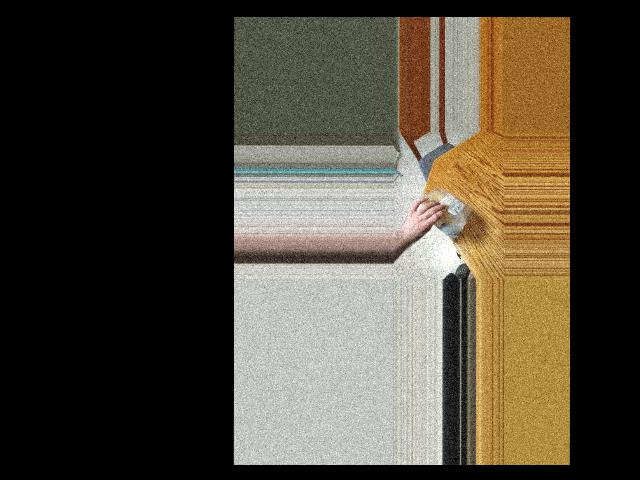cheese: (413, 185, 472, 231)
